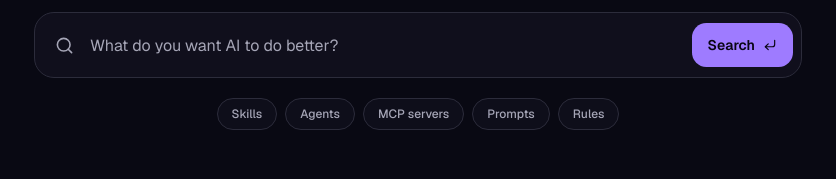
Scenario: ConsoleSearch › prefers this browser's recent searches over the popular list
Click the dropdown.
click(383, 45)  # box x1=74 y1=13 x2=692 y2=77
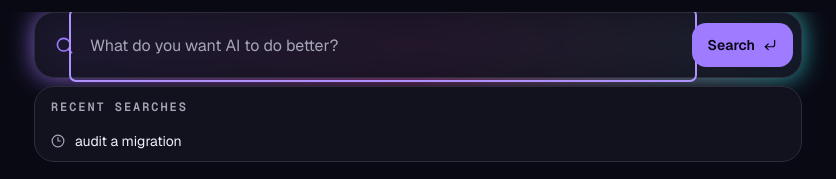
Expected: the list "Recent searches" is shown, x1=34 y1=86 x2=802 y2=162
Expected: the text "audit a migration" is shown, x1=75 y1=131 x2=182 y2=151
